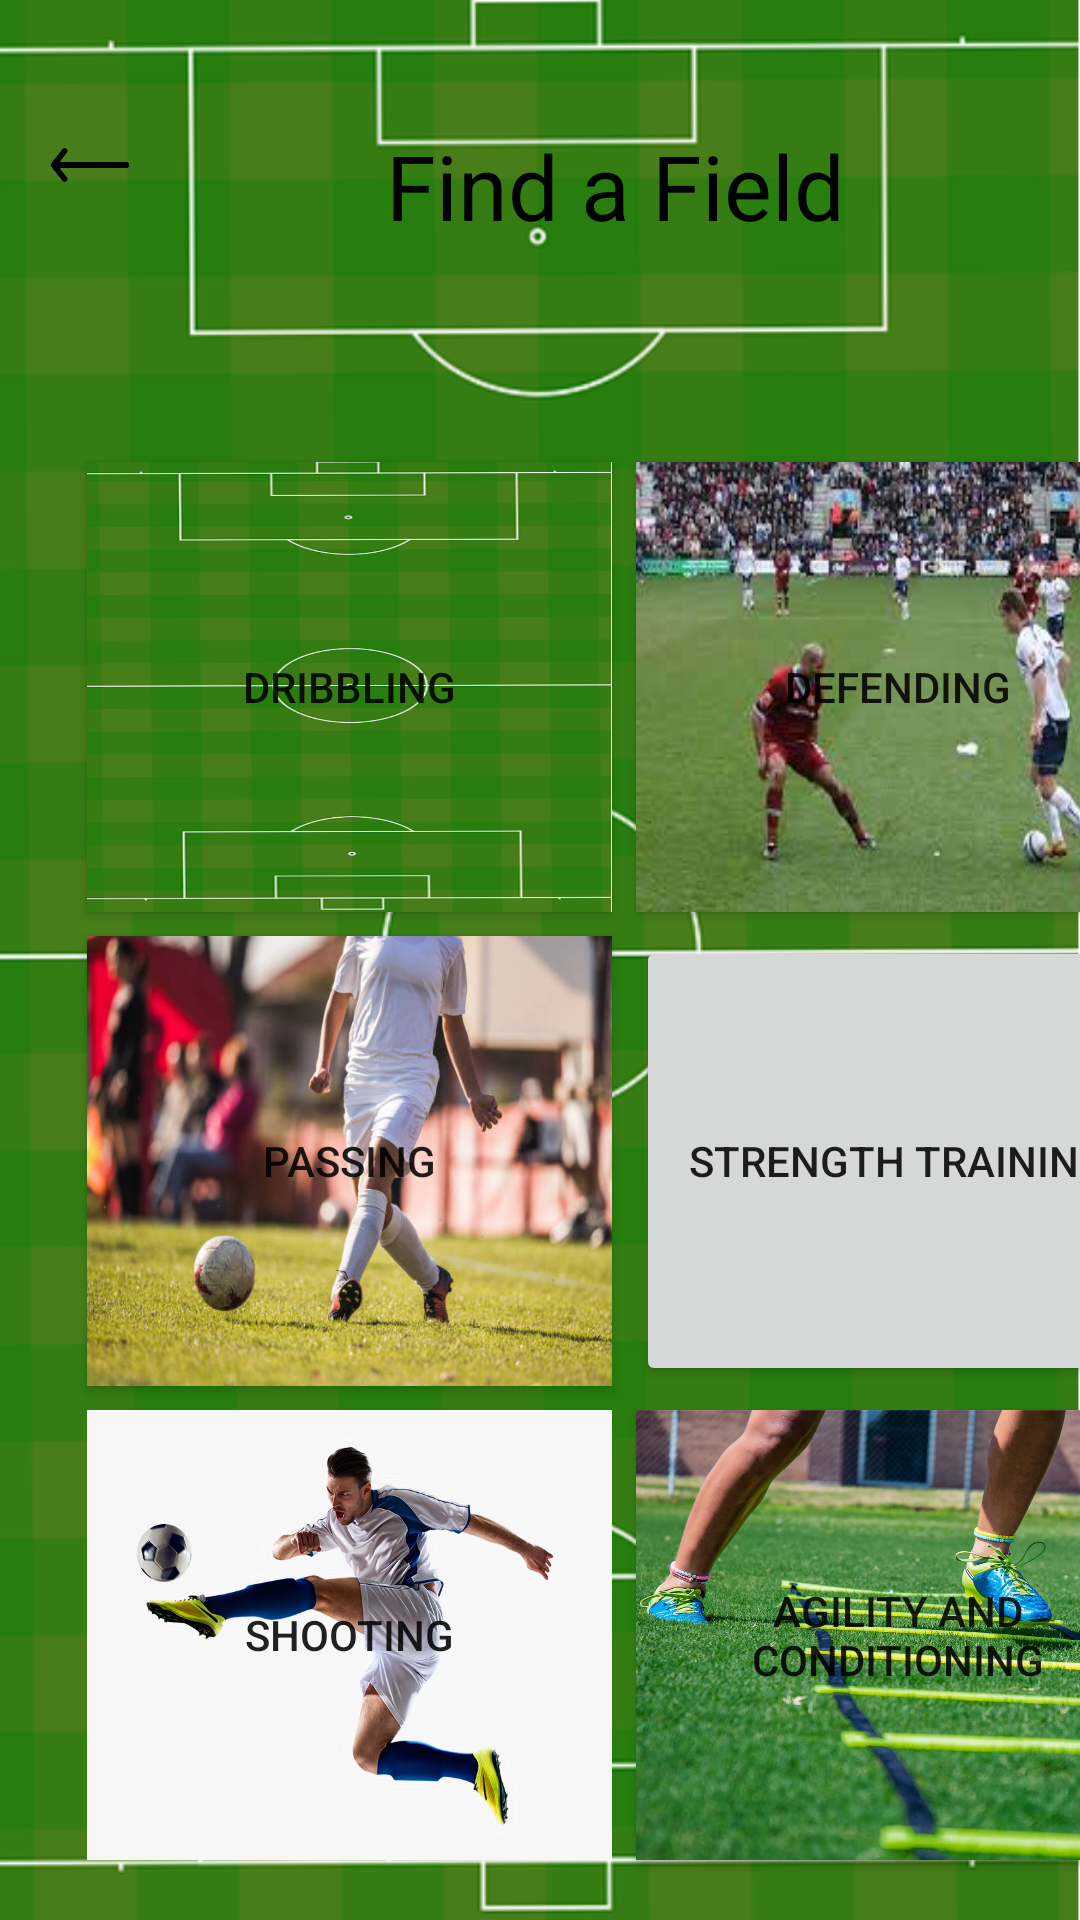

Point at icon controls on the screen. Image size 1080 x 1920, points as [x,y].
back arrow: [90,165]
